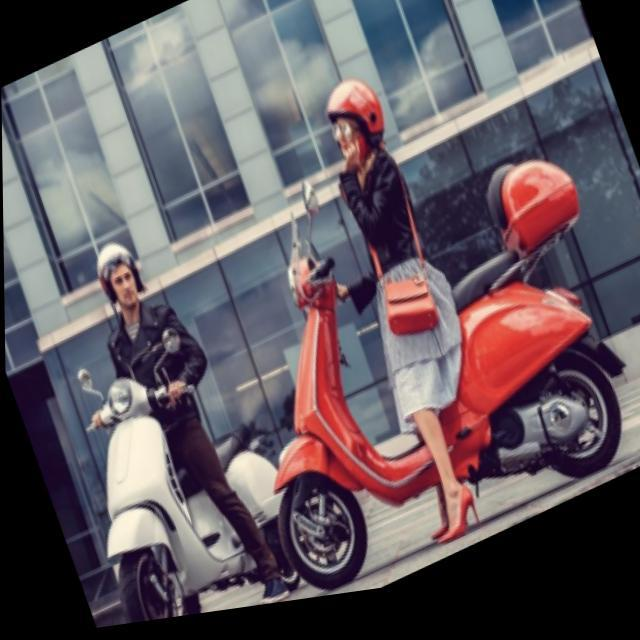Helmet: (319, 66, 393, 178), (89, 227, 151, 321)
